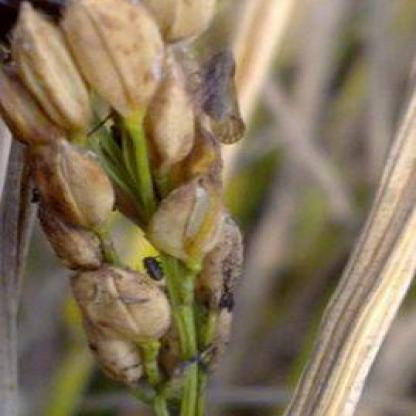brown-planthopper: (197, 42, 250, 145)
